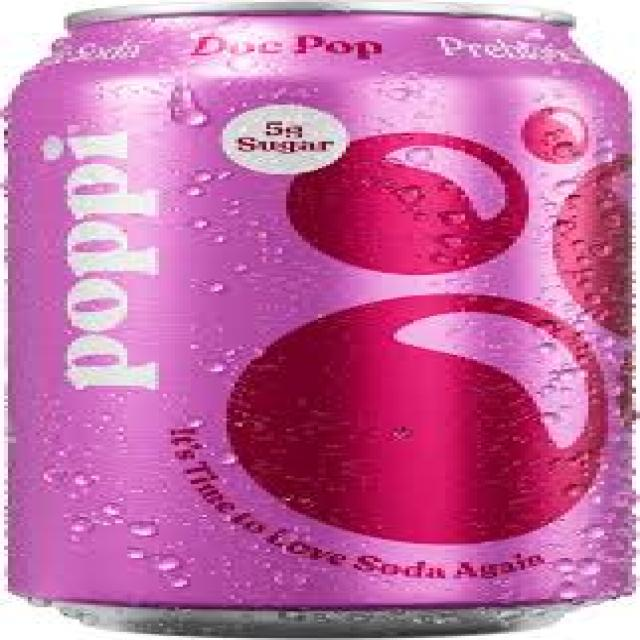Cans: (4, 2, 640, 628)
